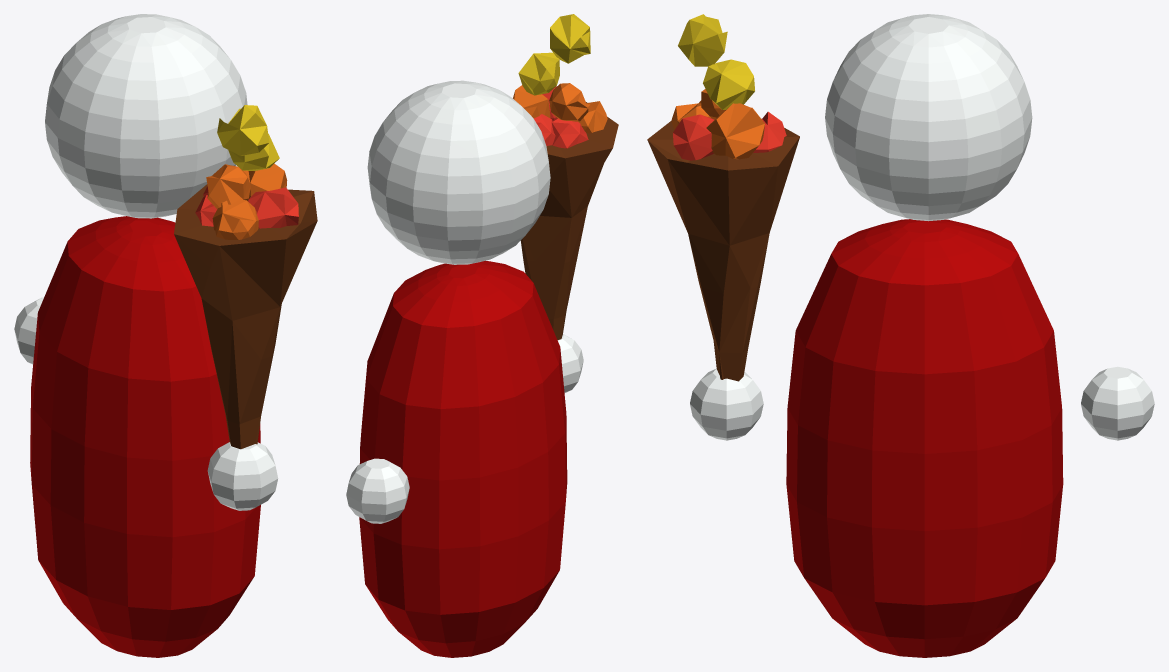
File: badguy.fbx
3 views of the same model, side by side, from view 1: azimuth 30°, elevation 25°; view 2: azimuth 150°, elevation 25°; view 3: azimuth 270°, elevation 25° (orthographic). The views are drawn at different scales.
Visible parts, largest first — view 1: Cylinder_Cylinder.000; view 2: Cylinder_Cylinder.000; view 3: Cylinder_Cylinder.000.
Boxes of the visible parts, left/top/right/bottom form: Cylinder_Cylinder.000: left=14, top=14, right=317, bottom=657; Cylinder_Cylinder.000: left=346, top=14, right=618, bottom=657; Cylinder_Cylinder.000: left=647, top=14, right=1154, bottom=657.
Size of the model in its own units: 105 by 325 by 239.
